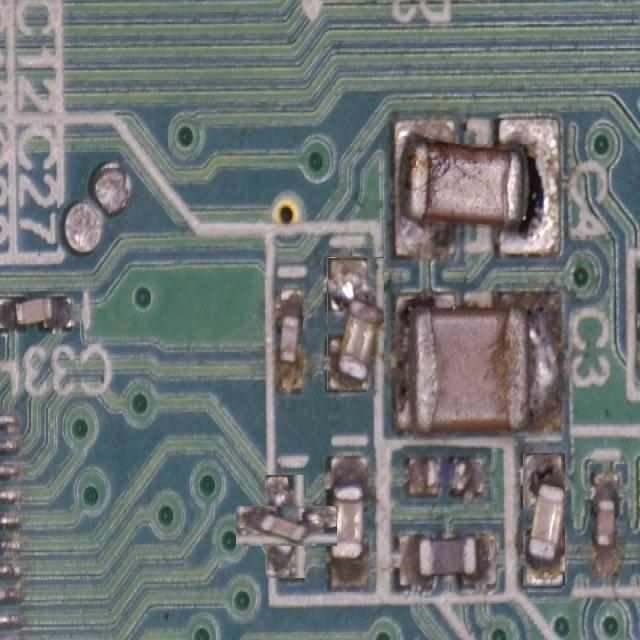Incorrect_installation: (327, 257, 384, 390), (522, 452, 565, 586), (235, 507, 337, 545)
